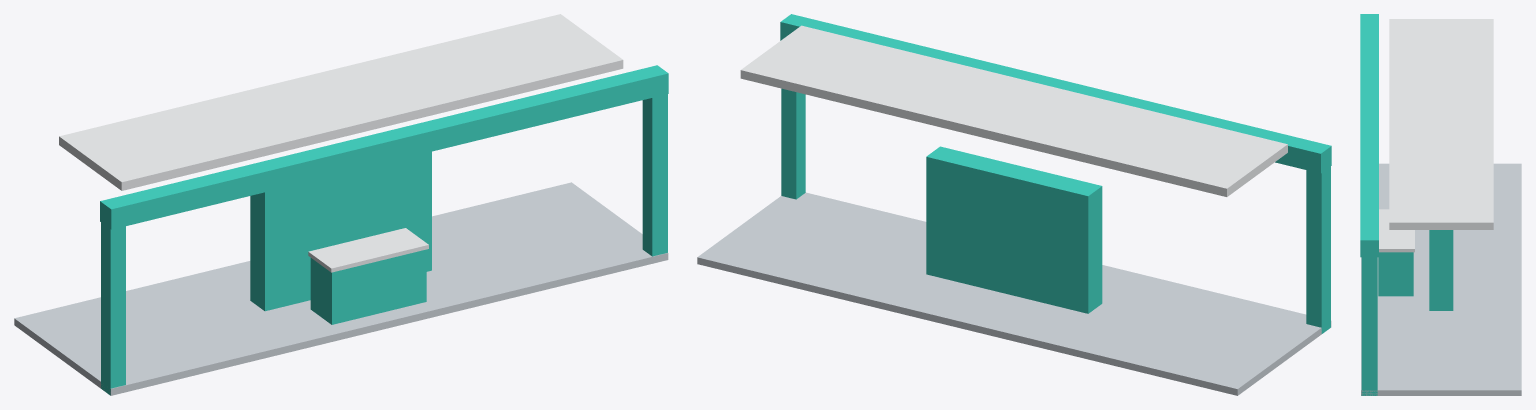
The picture shows the model from 3 angles, left to right: view 1: azimuth 30°, elevation 25°; view 2: azimuth 150°, elevation 25°; view 3: azimuth 270°, elevation 25°; orthographic projection. The views are drawn at different scales.
Visible parts, largest first — view 1: Exhibition Booth Concept; view 2: Exhibition Booth Concept; view 3: Exhibition Booth Concept.
Part boxes in pixels (x1=…): Exhibition Booth Concept: x1=14, y1=14, x2=668, y2=395; Exhibition Booth Concept: x1=697, y1=14, x2=1331, y2=395; Exhibition Booth Concept: x1=1360, y1=14, x2=1521, y2=395.
Bounding box in the file's own units: 10 × 3.34 × 3.01.
